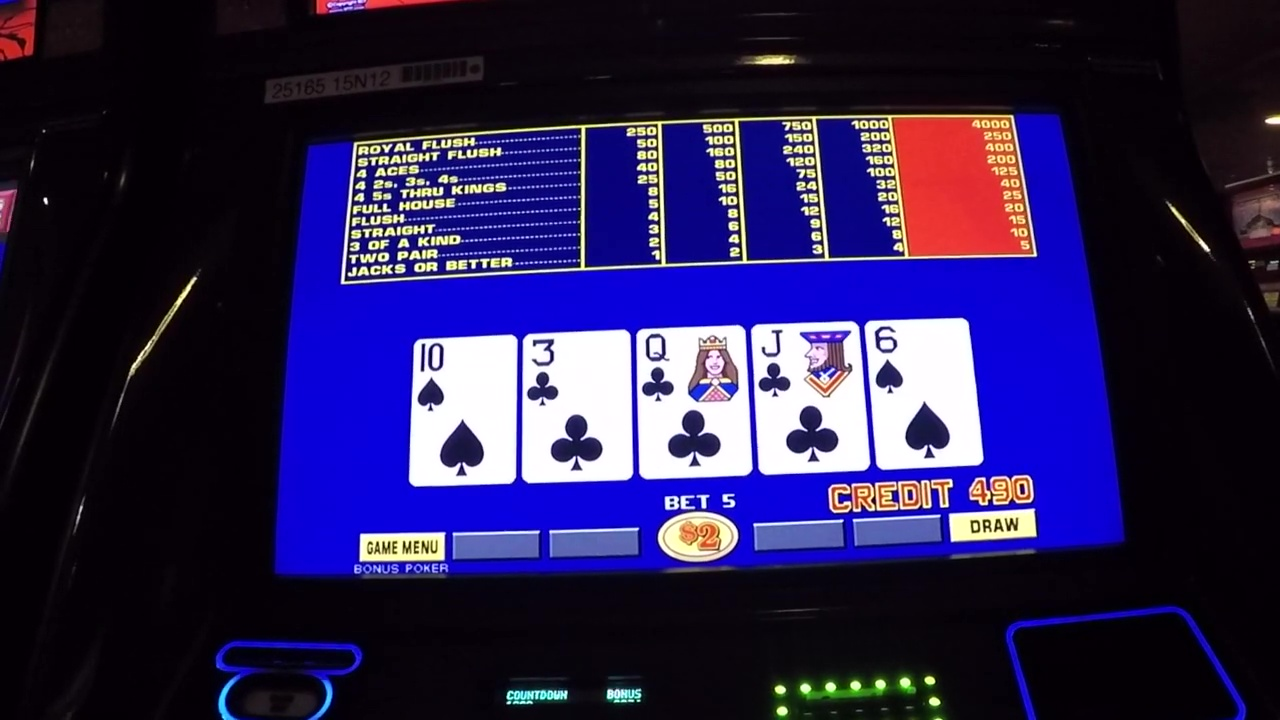C3: (523, 333, 628, 409)
CJ: (758, 327, 857, 399)
CQ: (639, 329, 744, 404)
S6: (872, 324, 966, 396)
ST: (416, 340, 511, 413)
